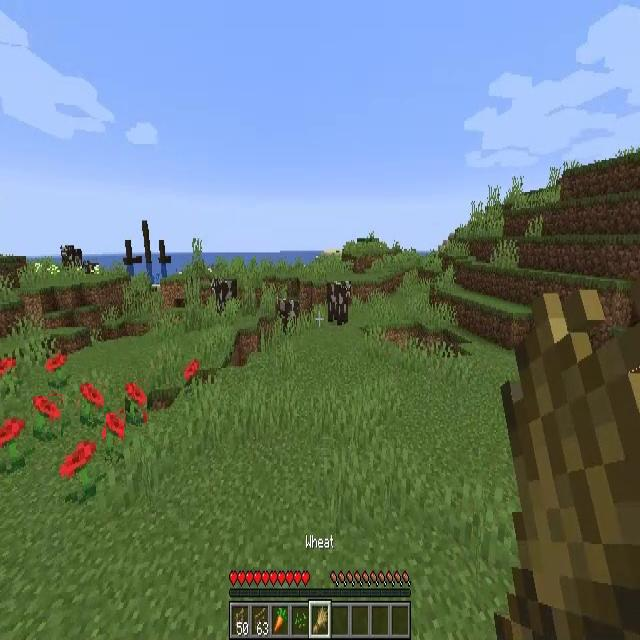cow: (325, 281, 351, 326), (211, 279, 238, 316), (278, 300, 299, 335), (60, 246, 82, 268), (82, 260, 99, 274)
flower: (62, 444, 91, 502), (33, 396, 61, 442), (0, 420, 21, 472), (80, 382, 104, 422), (125, 382, 147, 425), (0, 358, 23, 399), (106, 414, 124, 459), (46, 354, 68, 389)
